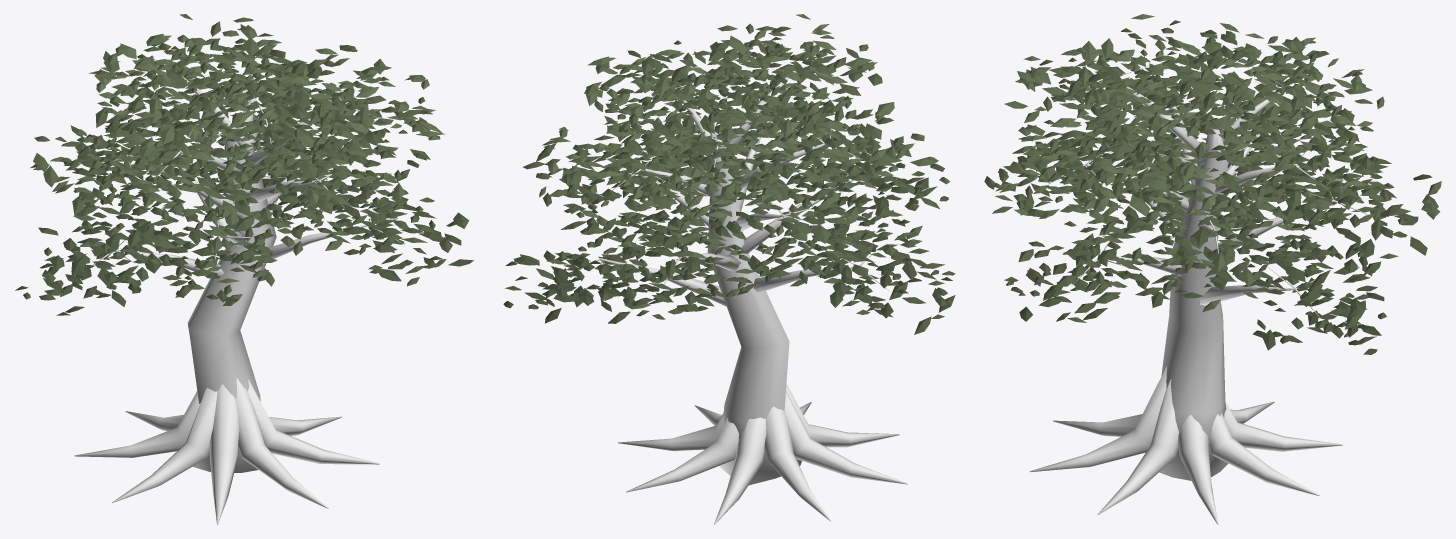
File: forest-tree-1-v3.glb
3 renders of one model, left to right at view 1: azimuth 30°, elevation 25°; view 2: azimuth 150°, elevation 25°; view 3: azimuth 270°, elevation 25°, orthographic. The views are drawn at different scales.
Parts seen in each view (by area): view 1: Folded canopy leaves, forest-atlas-surface; view 2: Folded canopy leaves, forest-atlas-surface; view 3: Folded canopy leaves, forest-atlas-surface.
Boxes of the visible parts, left/top/right/bottom form: Folded canopy leaves: left=15, top=14, right=473, bottom=315; forest-atlas-surface: left=74, top=62, right=404, bottom=524; Folded canopy leaves: left=503, top=14, right=955, bottom=334; forest-atlas-surface: left=564, top=66, right=907, bottom=524; Folded canopy leaves: left=984, top=14, right=1441, bottom=354; forest-atlas-surface: left=1029, top=64, right=1368, bottom=524.
Bounding box in the file's own units: 8.07 × 7.99 × 7.59.
